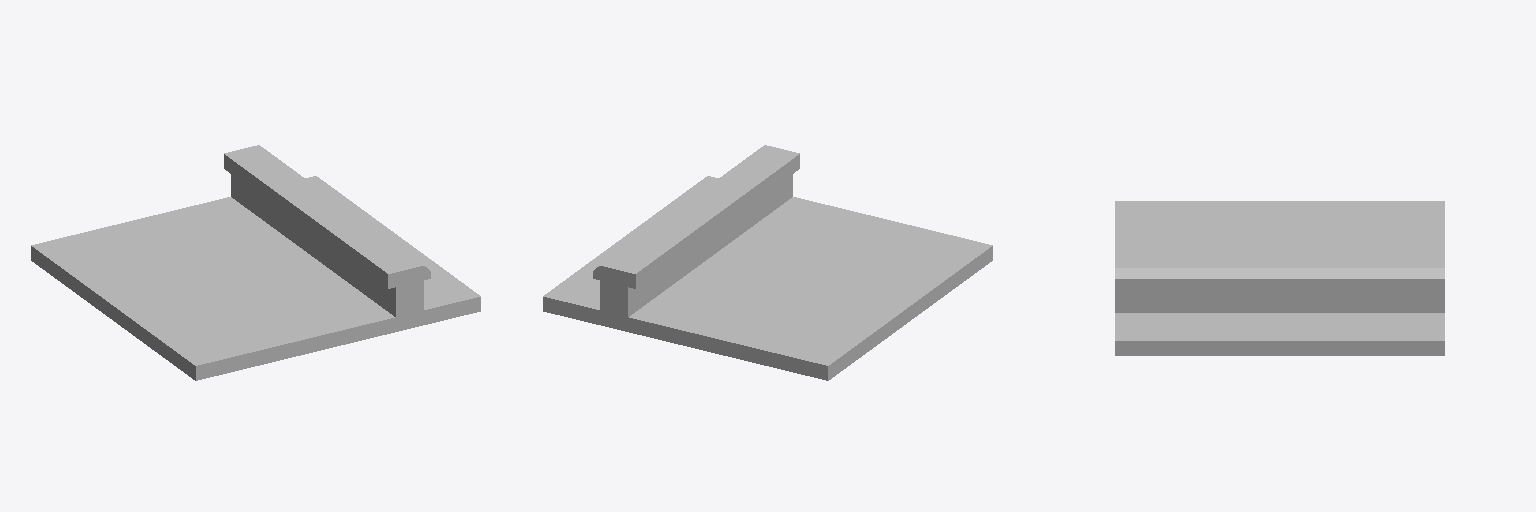
File: park_wall_straight.obj
The picture shows the model from 3 angles: view 1: azimuth 30°, elevation 25°; view 2: azimuth 150°, elevation 25°; view 3: azimuth 270°, elevation 25°; orthographic projection.
Visible parts, largest first — view 1: park_wall_straight_Cube.14201; view 2: park_wall_straight_Cube.14201; view 3: park_wall_straight_Cube.14201.
Boxes of the visible parts, x1,y1,x2,y2 form: park_wall_straight_Cube.14201: [31, 145, 480, 380]; park_wall_straight_Cube.14201: [543, 145, 992, 380]; park_wall_straight_Cube.14201: [1115, 201, 1444, 355].
Bounding box in the file's own units: 2 × 0.4 × 2.